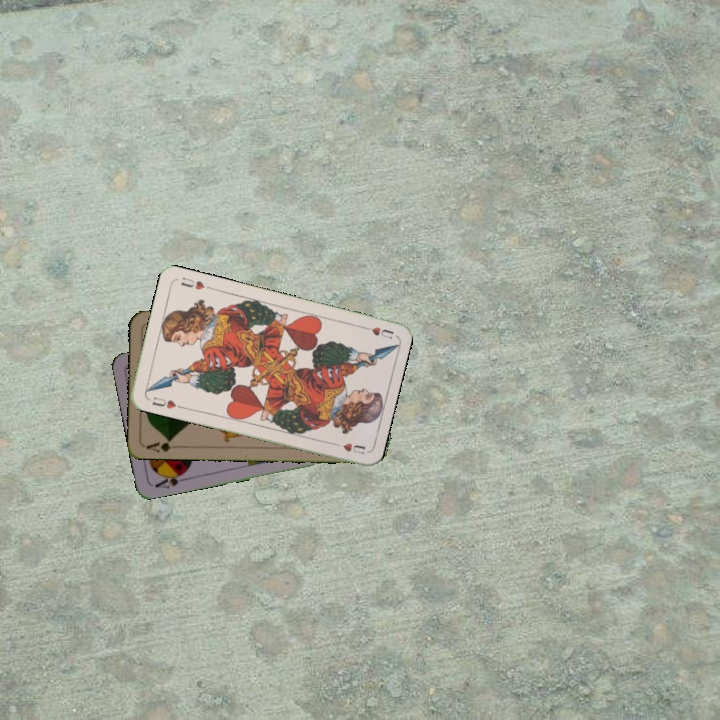GA: (142, 435, 175, 454)
HU: (356, 321, 396, 341), (148, 393, 184, 411)
SA: (151, 467, 190, 491)
